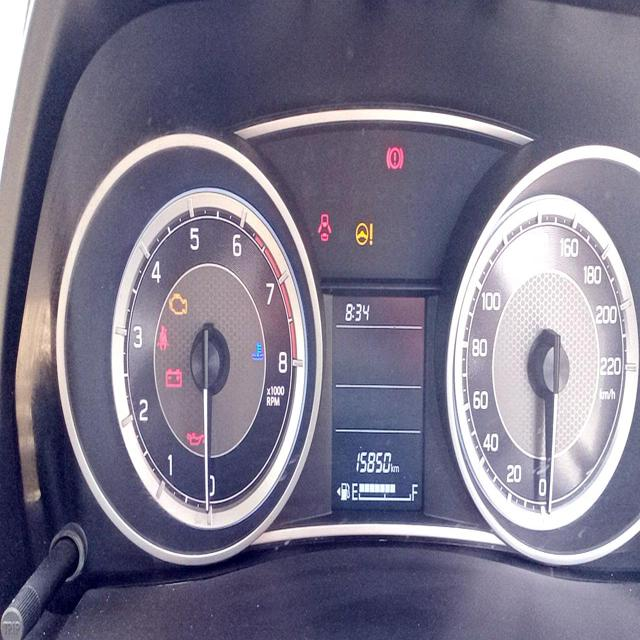odometer: (353, 447, 393, 479)
